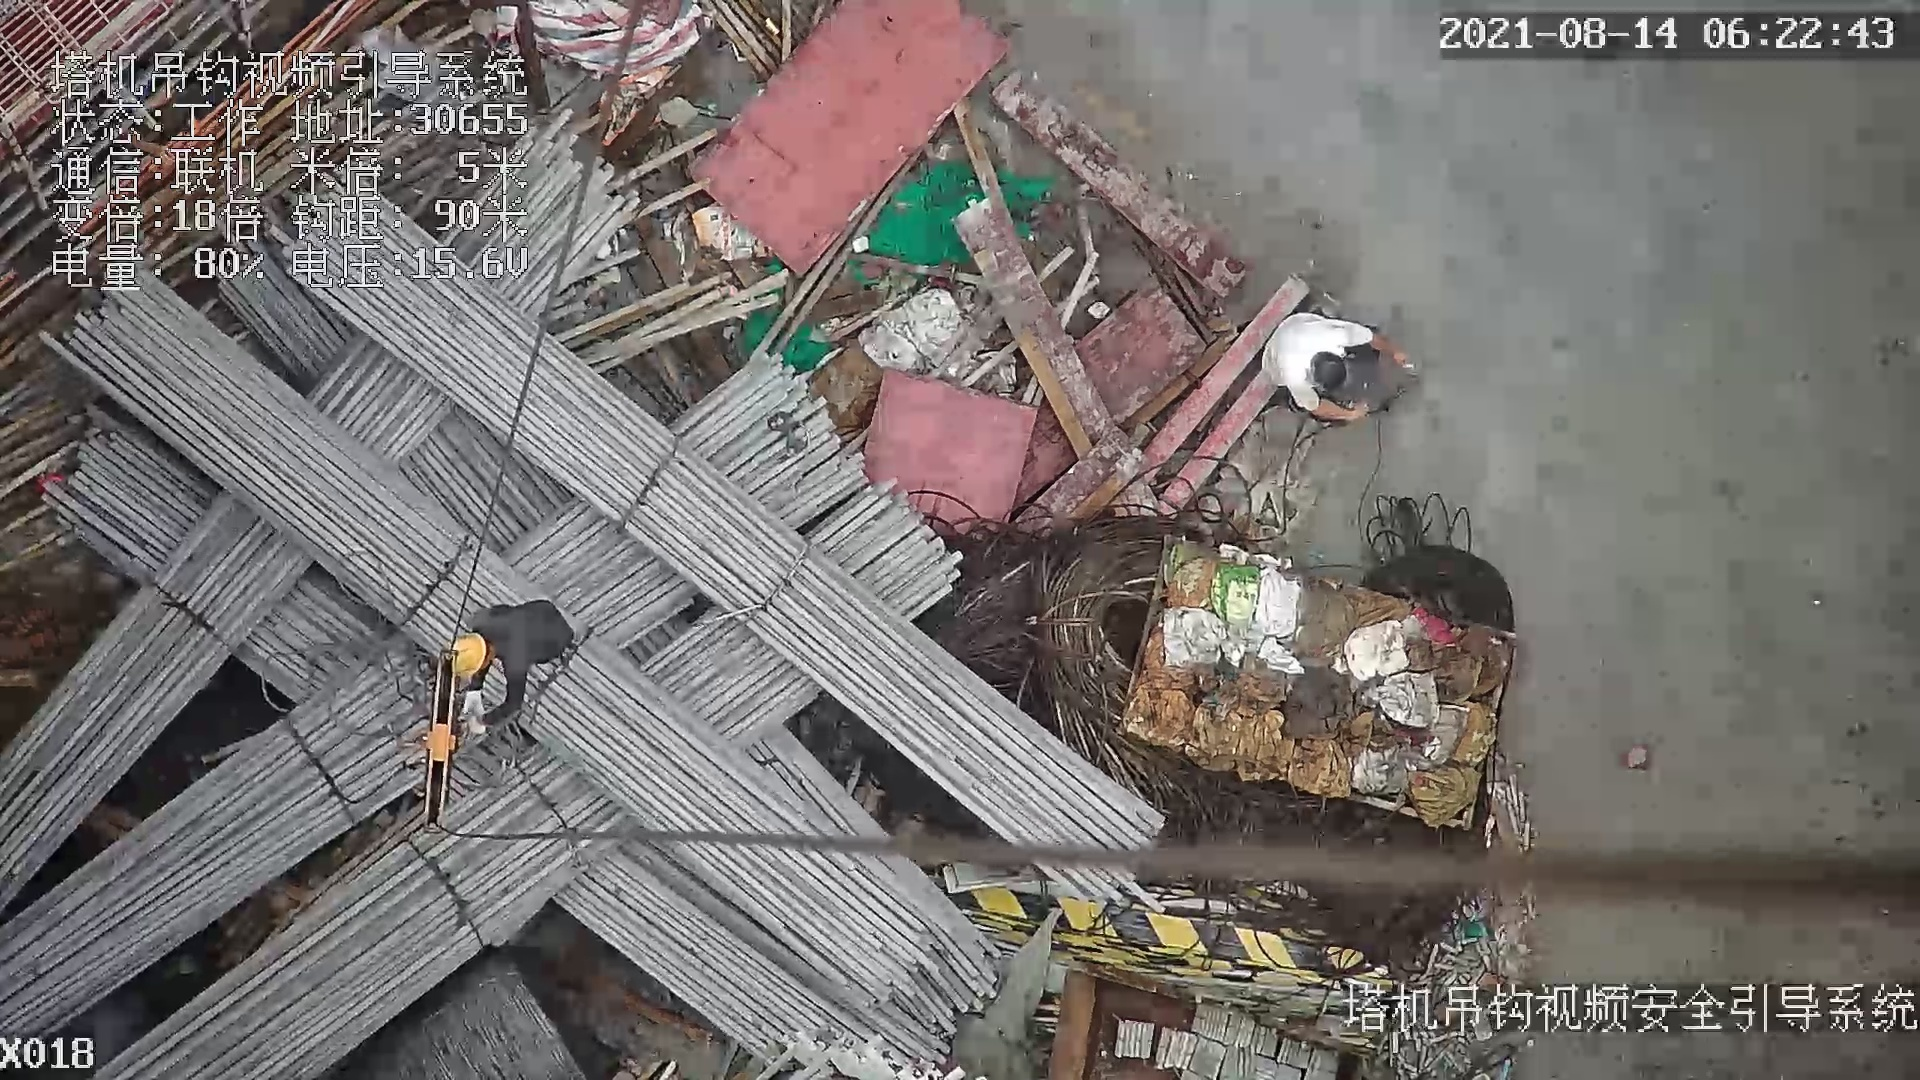board: (678, 2, 1011, 279)
helmet: (449, 630, 493, 676)
hook: (395, 644, 456, 832)
person: (1259, 305, 1418, 431), (433, 597, 574, 730)
